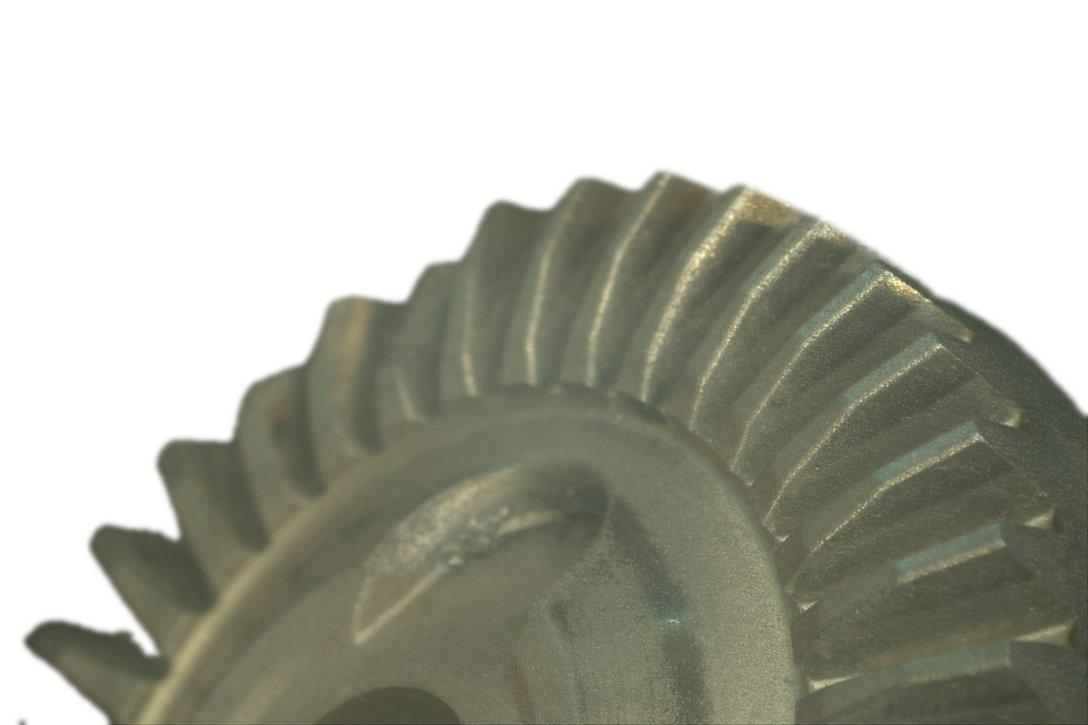defect: (386, 261, 458, 358), (239, 362, 305, 457)
